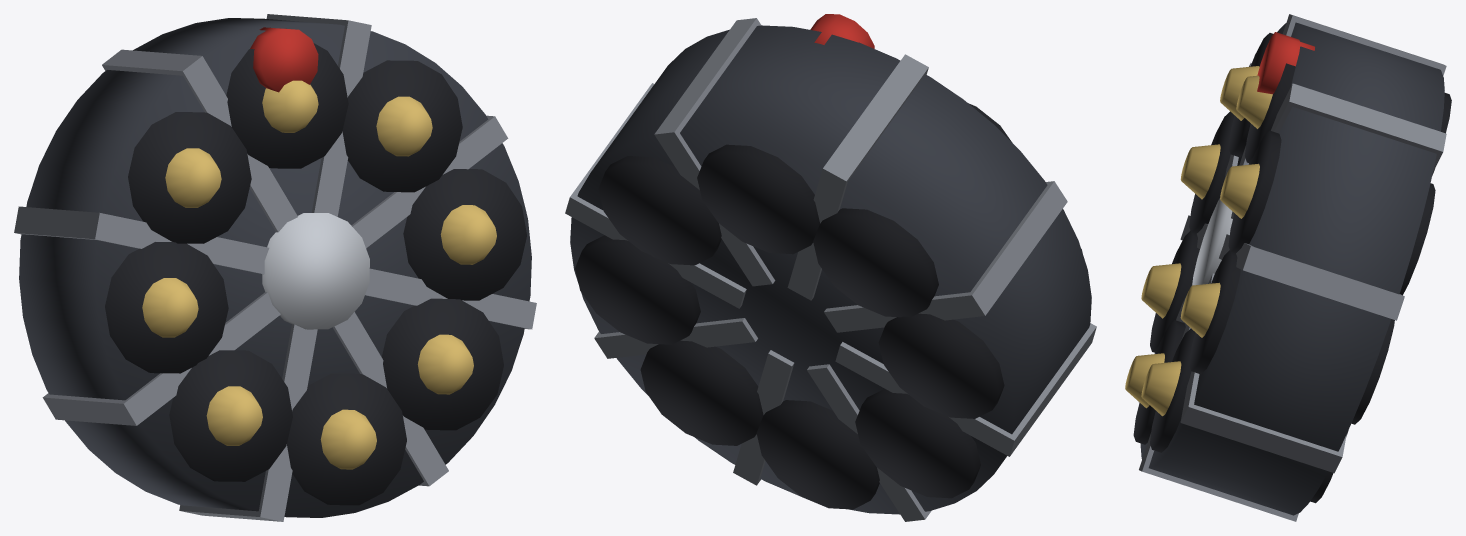
Rendered from payload.glb.
The picture shows the model from 3 angles, left to right: view 1: azimuth 30°, elevation 25°; view 2: azimuth 150°, elevation 25°; view 3: azimuth 270°, elevation 25°; orthographic projection. The views are drawn at different scales.
Visible parts, largest first — view 1: pkt_drum_body, pkt_drum_chamber_6, pkt_drum_chamber_7, pkt_drum_chamber_5, pkt_drum_chamber_2, pkt_drum_chamber_3, pkt_drum_chamber_4, pkt_drum_chamber_1, pkt_drum_hub, pkt_drum_chamber_0, pkt_drum_rib_6, pkt_drum_rib_5 (+15 smaller); view 2: pkt_drum_body, pkt_drum_chamber_7, pkt_drum_chamber_0, pkt_drum_chamber_6, pkt_drum_chamber_3, pkt_drum_chamber_1, pkt_drum_chamber_4, pkt_drum_chamber_2, pkt_drum_chamber_5, pkt_drum_rib_7, pkt_drum_rib_6, pkt_drum_rib_0 (+6 smaller); view 3: pkt_drum_body, pkt_drum_rib_1, pkt_drum_rib_0, pkt_drum_rib_2, pkt_drum_chamber_1, pkt_drum_chamber_2, pkt_drum_chamber_3, pkt_drum_chamber_5, pkt_drum_chamber_6, pkt_drum_hub, pkt_drum_index, pkt_drum_chamber_0 (+12 smaller).
Boxes of the visible parts, x1,y1,x2,y2 form: pkt_drum_body: (19, 18, 531, 517); pkt_drum_chamber_6: (105, 242, 228, 373); pkt_drum_chamber_7: (128, 112, 251, 243); pkt_drum_chamber_5: (169, 350, 292, 481); pkt_drum_chamber_2: (403, 169, 526, 300); pkt_drum_chamber_3: (381, 298, 503, 430); pkt_drum_chamber_4: (287, 373, 406, 505); pkt_drum_chamber_1: (342, 60, 462, 192); pkt_drum_hub: (262, 213, 369, 329); pkt_drum_chamber_0: (226, 43, 348, 168); pkt_drum_rib_6: (14, 206, 269, 274); pkt_drum_rib_5: (42, 292, 280, 425); pkt_drum_body: (570, 25, 1091, 514); pkt_drum_chamber_7: (813, 103, 1012, 317); pkt_drum_chamber_0: (697, 42, 859, 254); pkt_drum_chamber_6: (878, 249, 1082, 418); pkt_drum_chamber_3: (640, 340, 763, 445); pkt_drum_chamber_1: (598, 156, 721, 265); pkt_drum_chamber_4: (756, 400, 879, 509); pkt_drum_chamber_2: (575, 235, 700, 344); pkt_drum_chamber_5: (855, 389, 980, 498); pkt_drum_rib_7: (787, 54, 928, 300); pkt_drum_rib_6: (824, 181, 1067, 332); pkt_drum_rib_0: (654, 18, 775, 286); pkt_drum_body: (1140, 22, 1444, 515); pkt_drum_rib_1: (1219, 234, 1404, 320); pkt_drum_rib_0: (1231, 83, 1446, 218); pkt_drum_rib_2: (1180, 273, 1346, 473); pkt_drum_chamber_1: (1228, 130, 1435, 295); pkt_drum_chamber_2: (1189, 250, 1394, 424); pkt_drum_chamber_3: (1150, 328, 1348, 503); pkt_drum_chamber_5: (1150, 230, 1199, 352); pkt_drum_chamber_6: (1189, 111, 1234, 233); pkt_drum_hub: (1192, 198, 1232, 285); pkt_drum_index: (1257, 32, 1314, 94); pkt_drum_chamber_0: (1244, 63, 1451, 175).
Size of the model in its own units: 0.1058 by 0.1134 by 0.0734.
